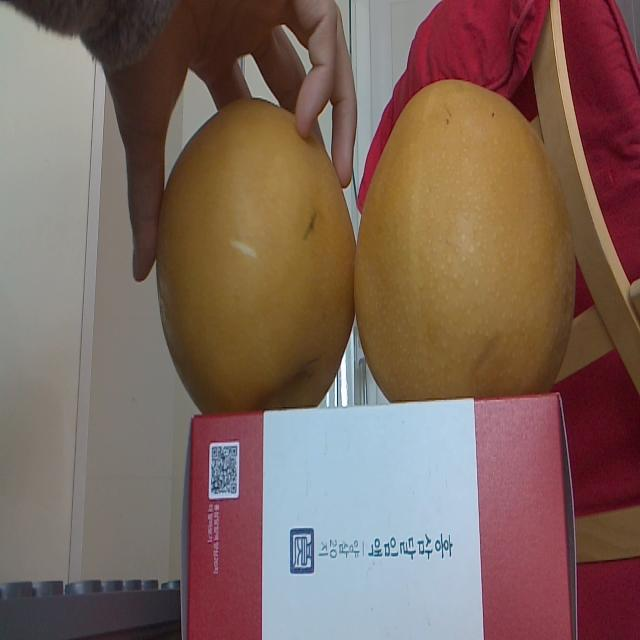pear: (354, 80, 574, 404), (152, 94, 356, 443)
